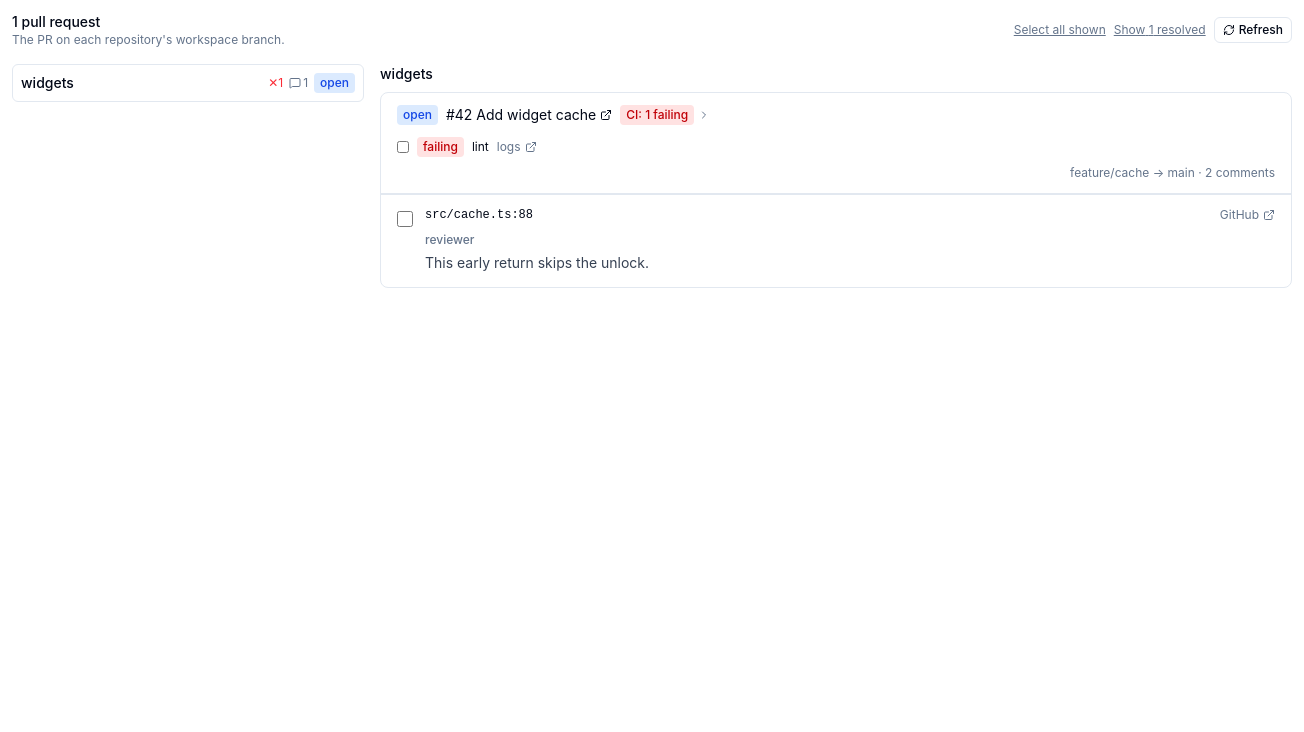
Test: PullRequestsView › CI status › counts checks and comments separately in the action bar
Click the checkbox named "src/cache.ts:88" at (405, 219), box [397,211,413,227]
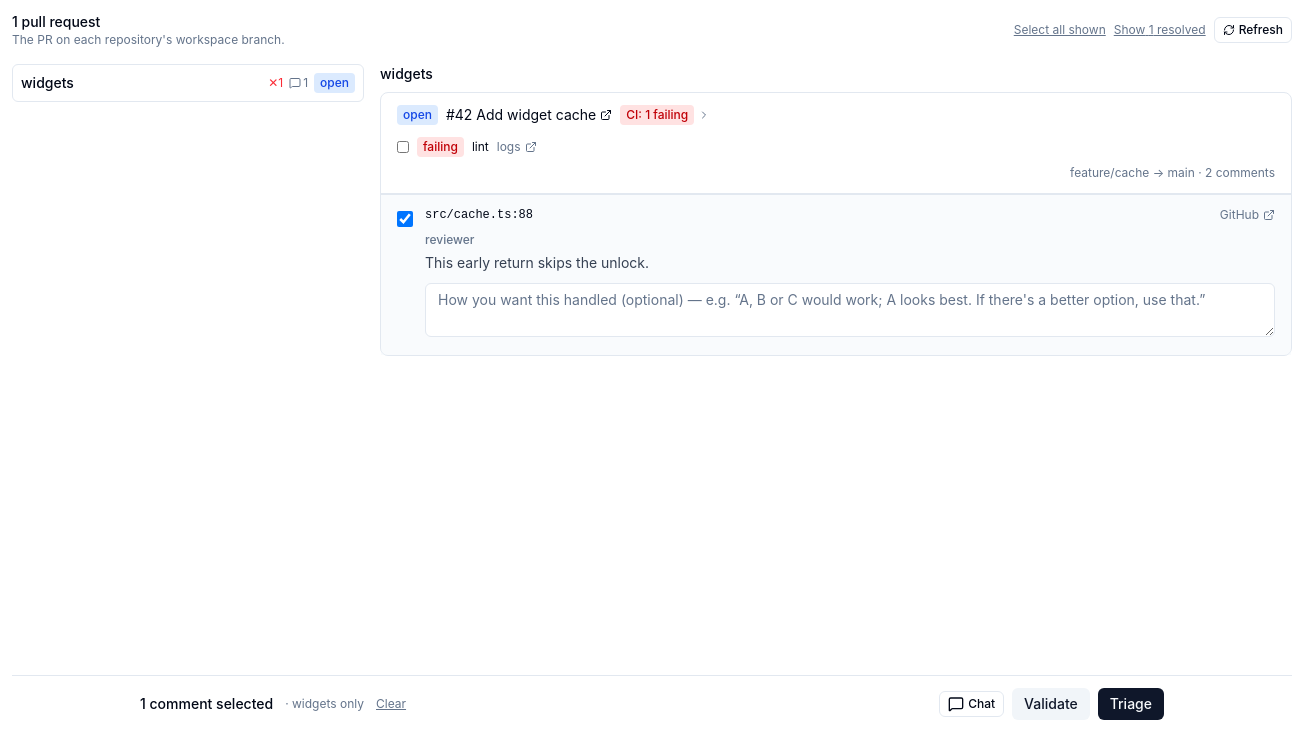
Click the checkbox named "lint" at (403, 147), box [397,141,409,153]
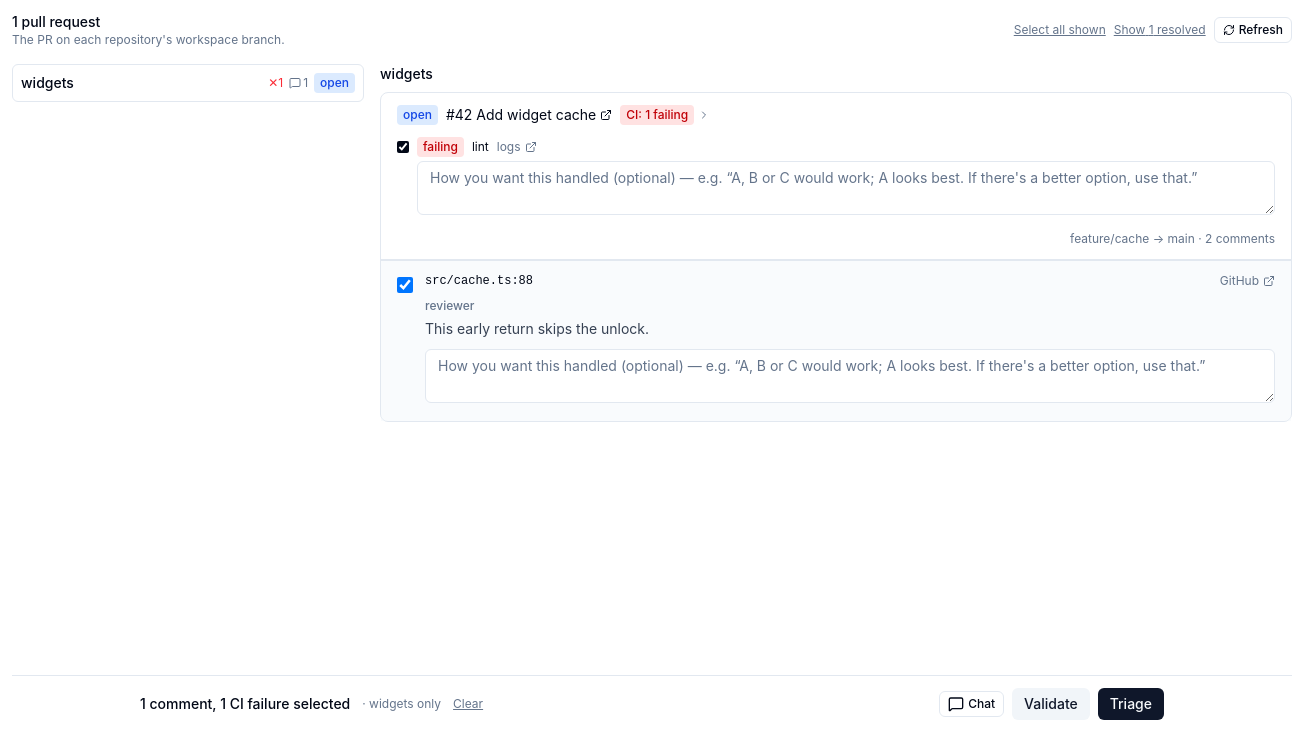
Check: the text "1 comment, 1 CI failure selected" is shown, box [140,694,350,714]
